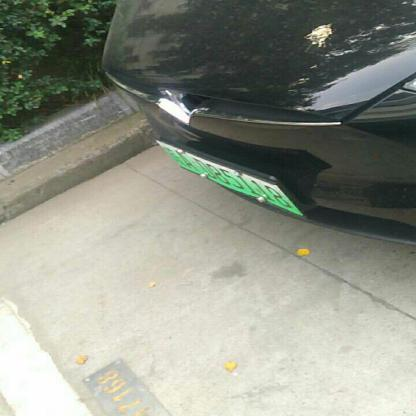lp: (160, 146, 302, 216)
